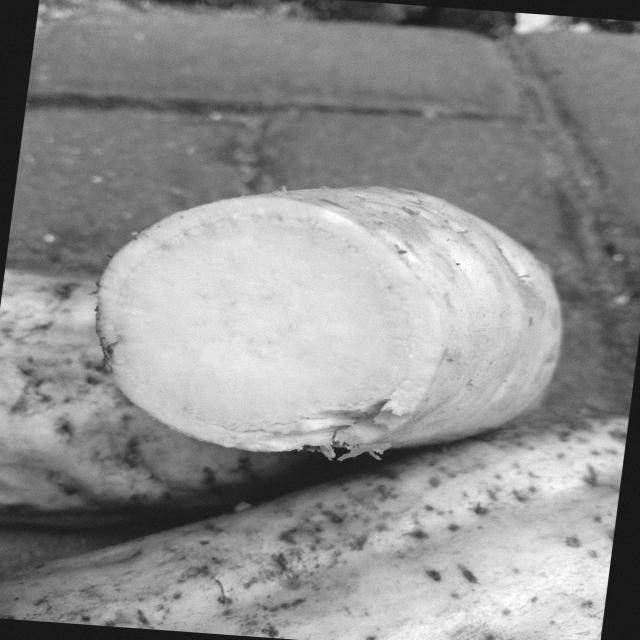Healthy Sweet Potato: (97, 195, 443, 456)
